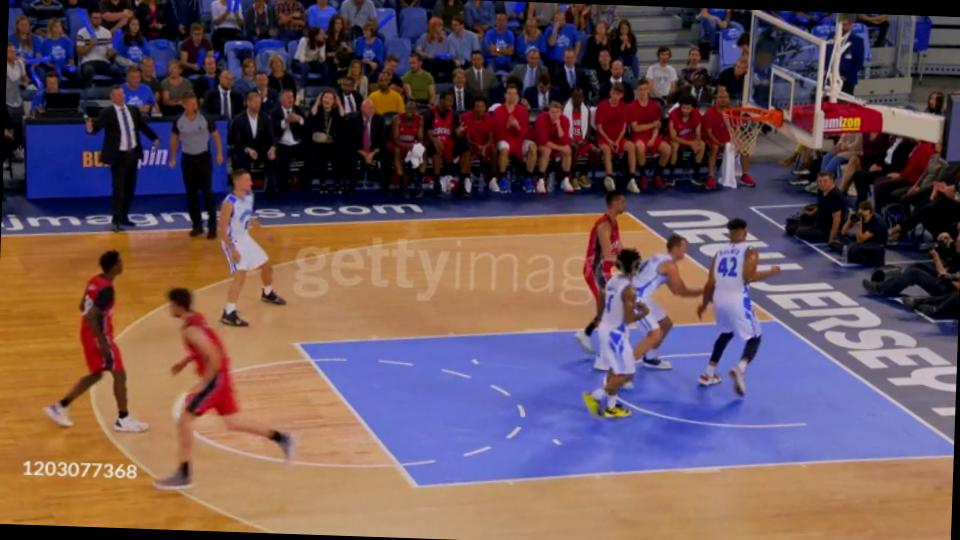hoop: (718, 99, 789, 129)
